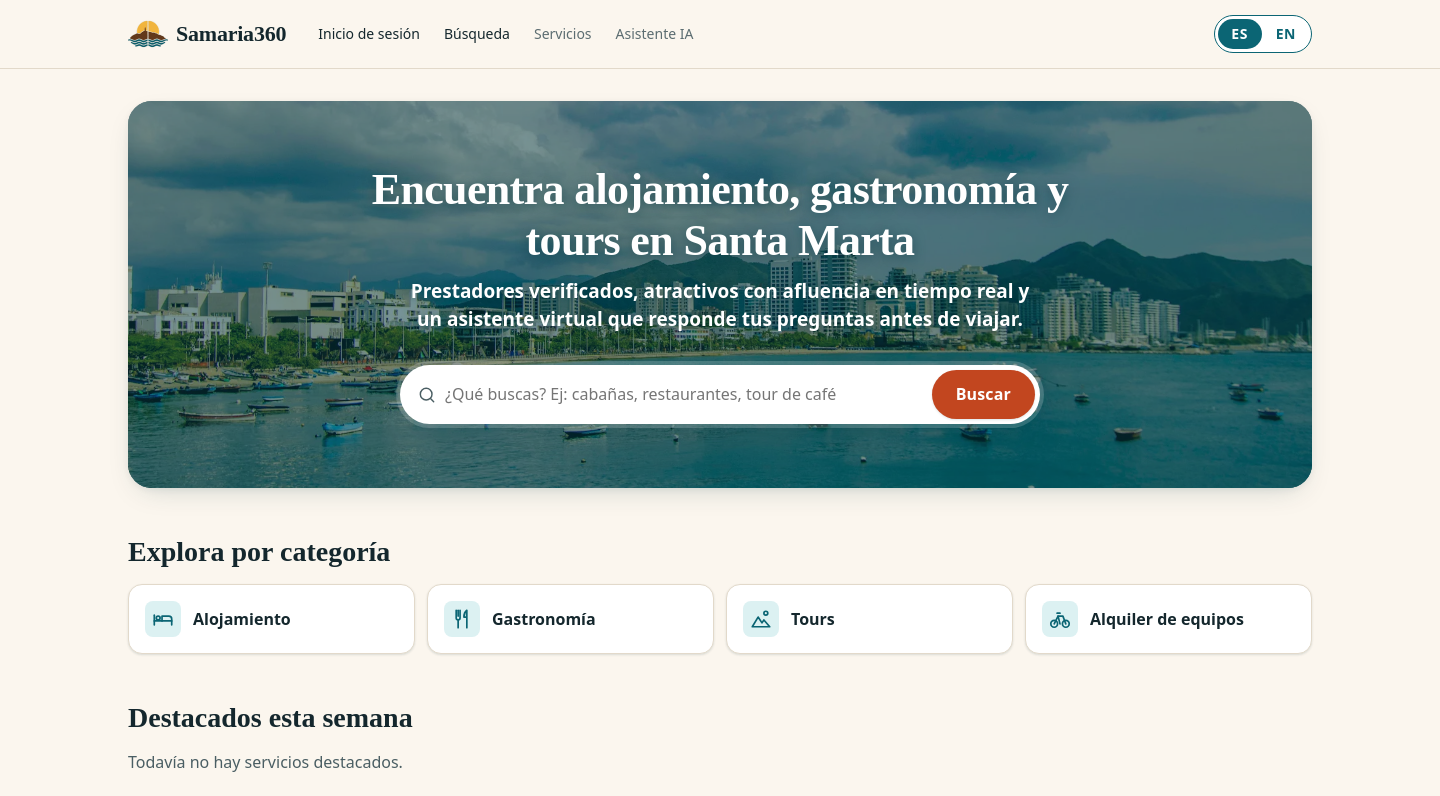
Test: Inicio WF-04 › «Búsqueda» del encabezado lleva a la exploración
This screenshot has width=1440, height=796.
What coordinates should you click on to do the following:
click the link "Búsqueda"
I would click on:
 (477, 34)
Its box is [444,15,510,53].
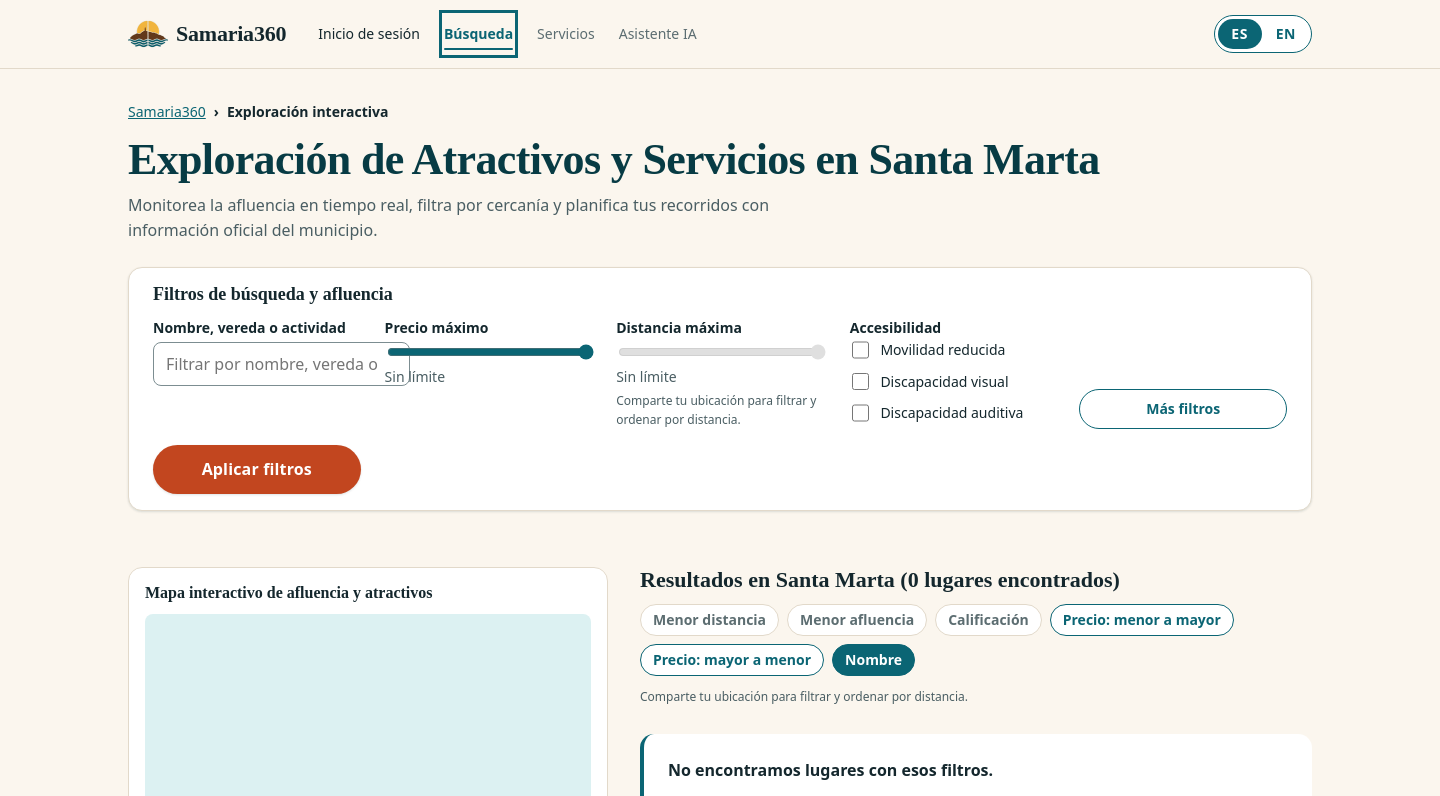
Now the heading "Exploración de Atractivos y Servicios en Santa Marta" is shown, box [128,135,1100,184]
